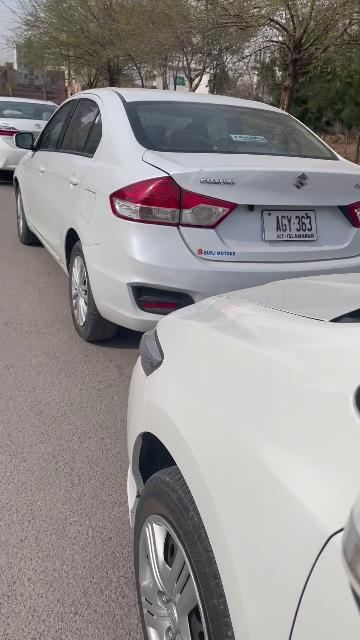plate: (263, 210, 317, 241)
